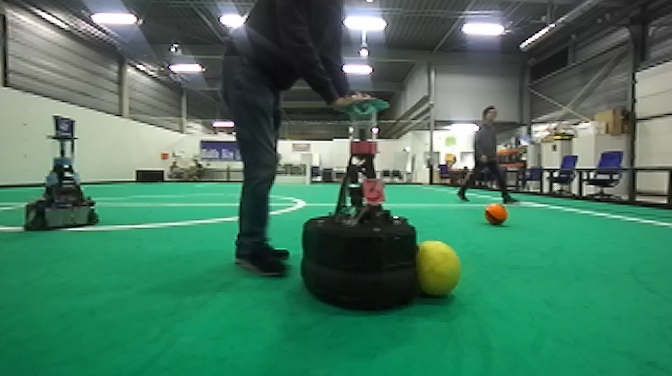ball: (413, 238, 463, 303), (483, 199, 509, 231)
goalpost: (303, 162, 311, 188)
human: (218, 1, 384, 276), (456, 100, 518, 206)
robot: (296, 93, 425, 316), (20, 113, 103, 237)
